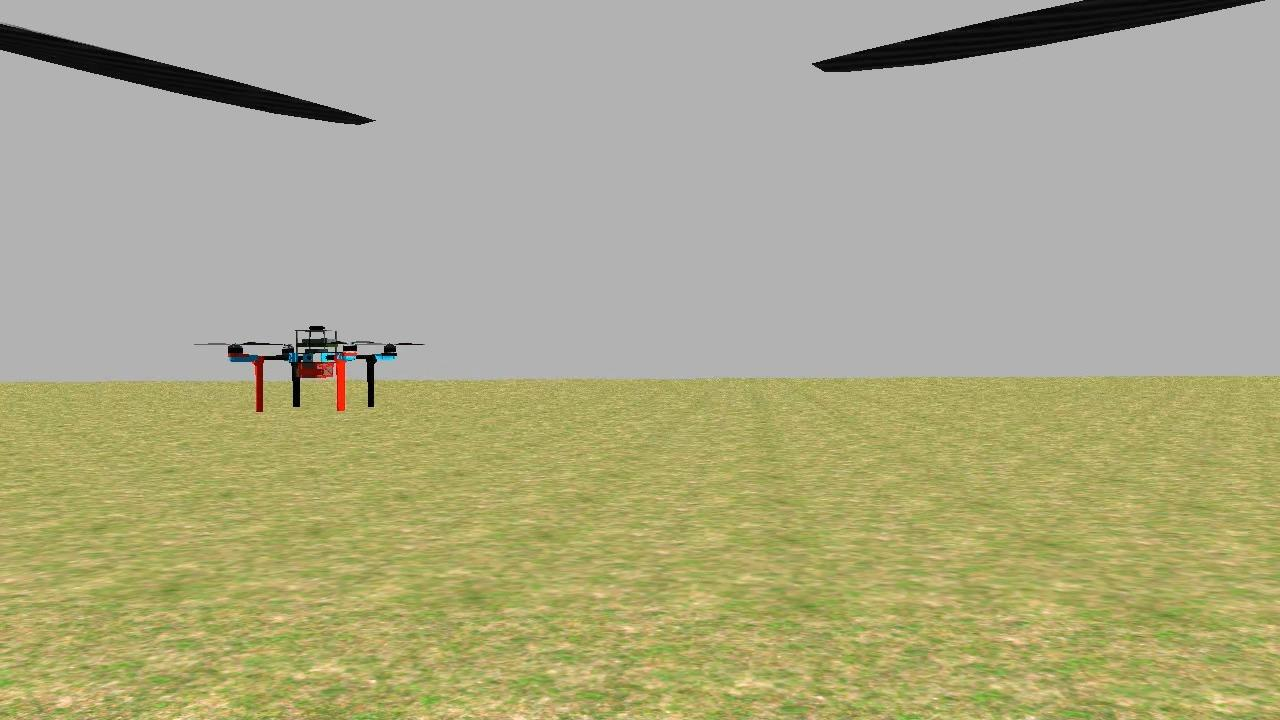UAV: (218, 308, 408, 423)
